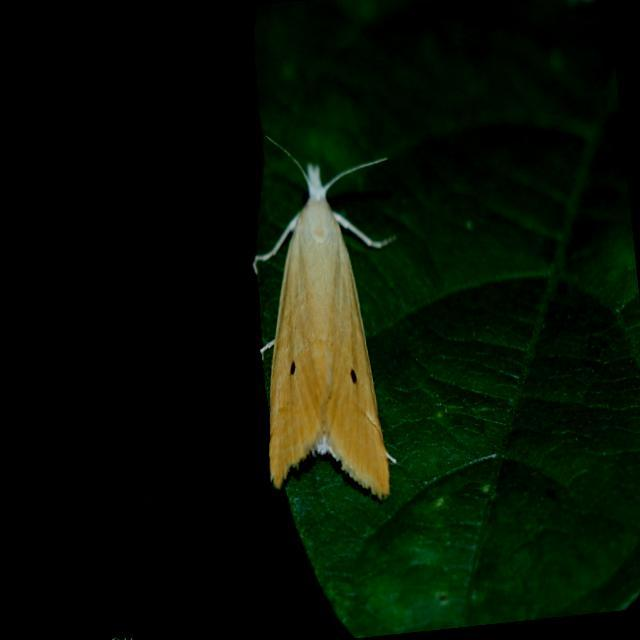stem borer: (233, 133, 405, 511)
